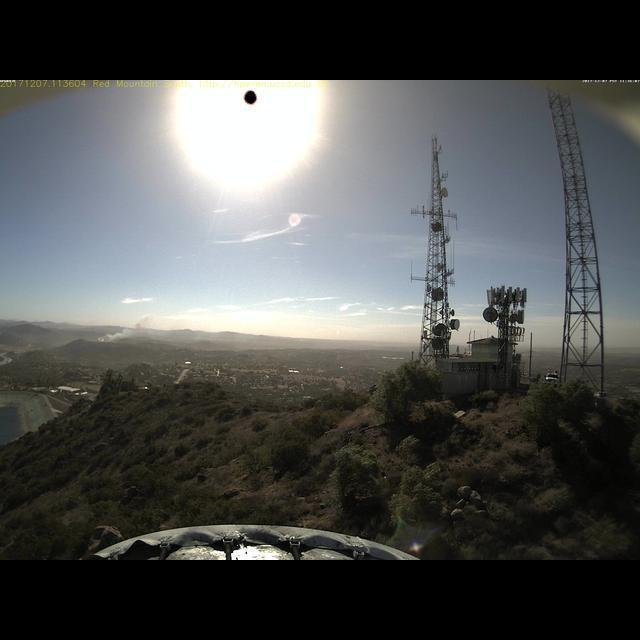Smoke: (87, 310, 164, 345)
